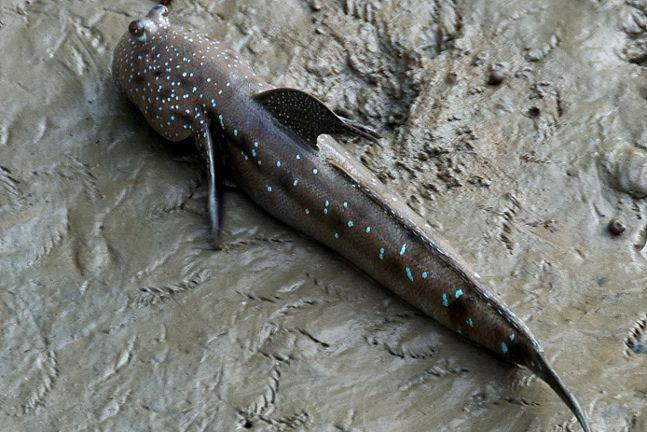Goby: (114, 4, 595, 432)
